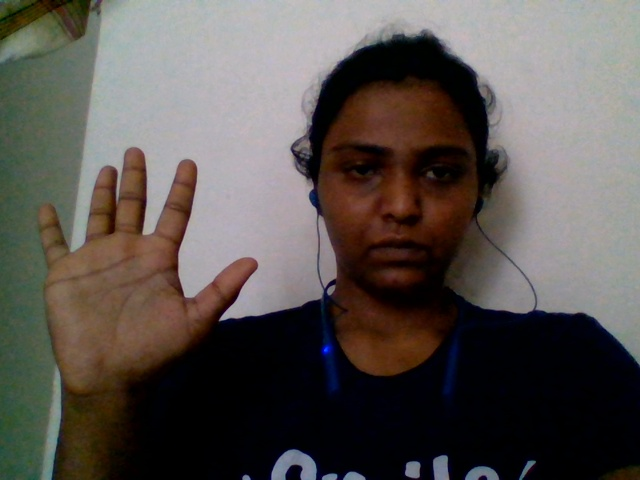Hello: (29, 117, 271, 418)
